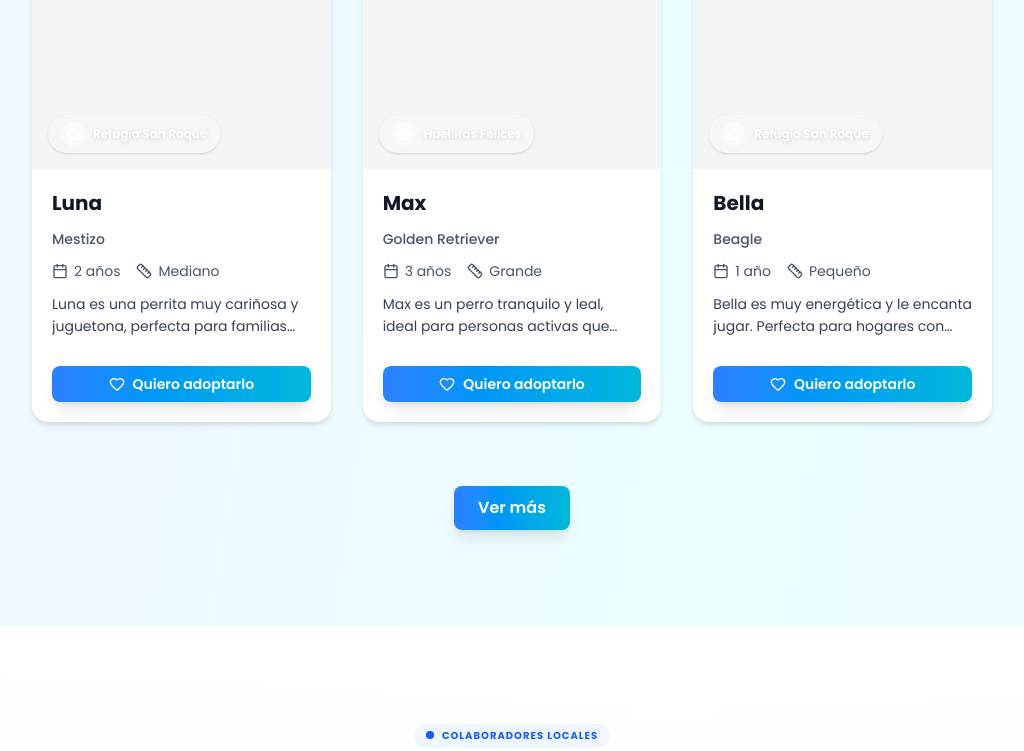
Test: Home Page › closes the modal when primary button is clicked
The width and height of the screenshot is (1024, 751).
(page scrolled)
Click the button "Quiero adoptarlo" below "2 años". click: (181, 384)
box: [52, 366, 311, 402]
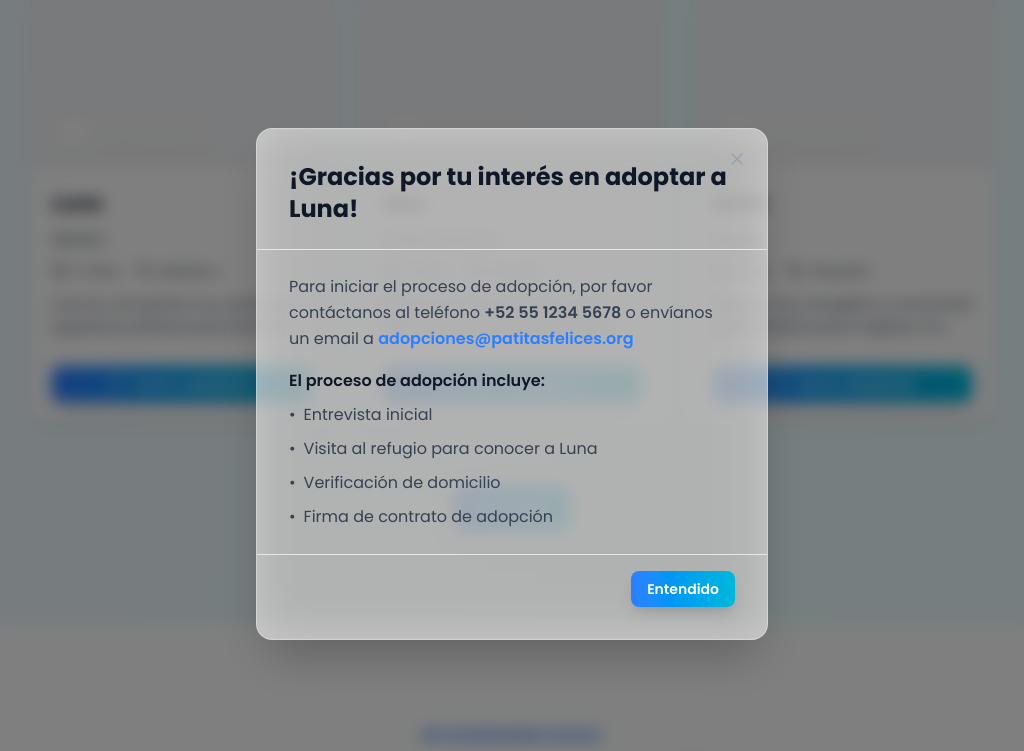
Expected: the heading "¡Gracias por tu interés en adoptar a Luna!" is shown, [289, 161, 735, 225]
Note: Click the "Entendido" button
Click the button "Entendido". click: (683, 589)
box: [631, 571, 735, 607]
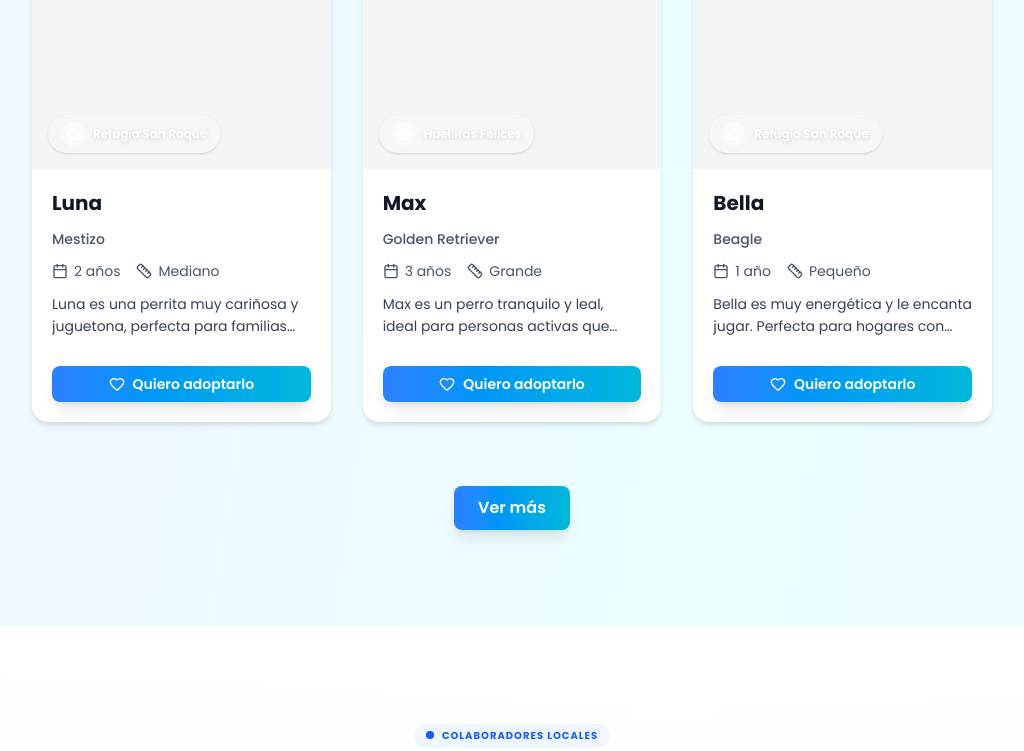
Expected: the heading "¡Gracias por tu interés en adoptar a Luna!" is gone
